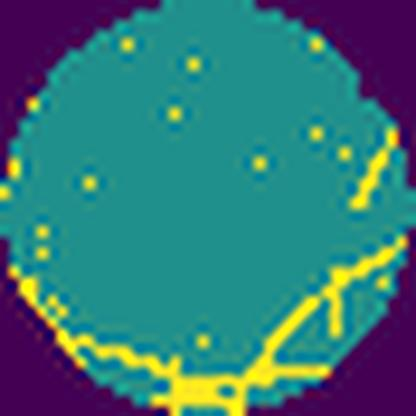Scratch: (12, 233, 412, 416), (346, 126, 399, 215)
